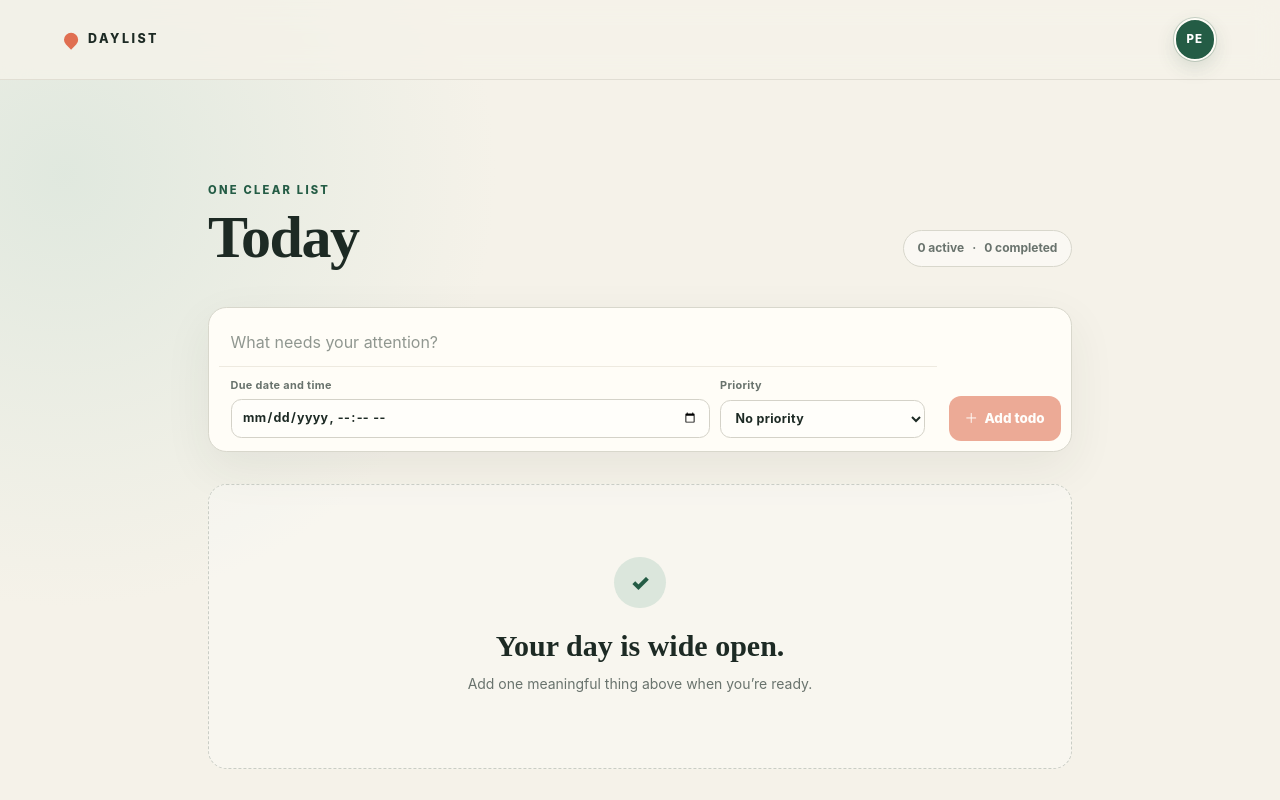
App › adds a todo with a local due date and priority
Type "Ship the app" into the field named "New todo" at coordinates (578, 342), box [219,319,937,366]
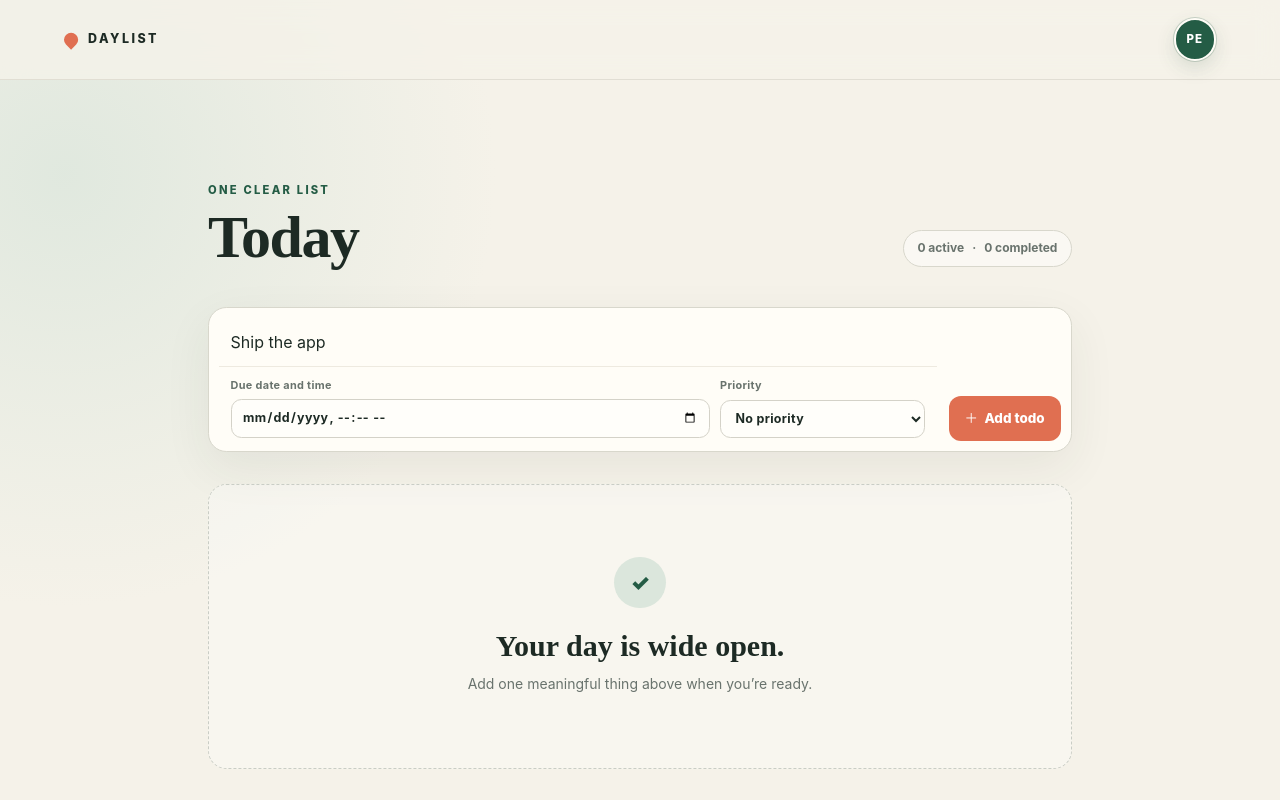
Type "2026-09-03T14:30" into the field labelled "Due date and time" at coordinates (470, 419), box [231,399,710,438]
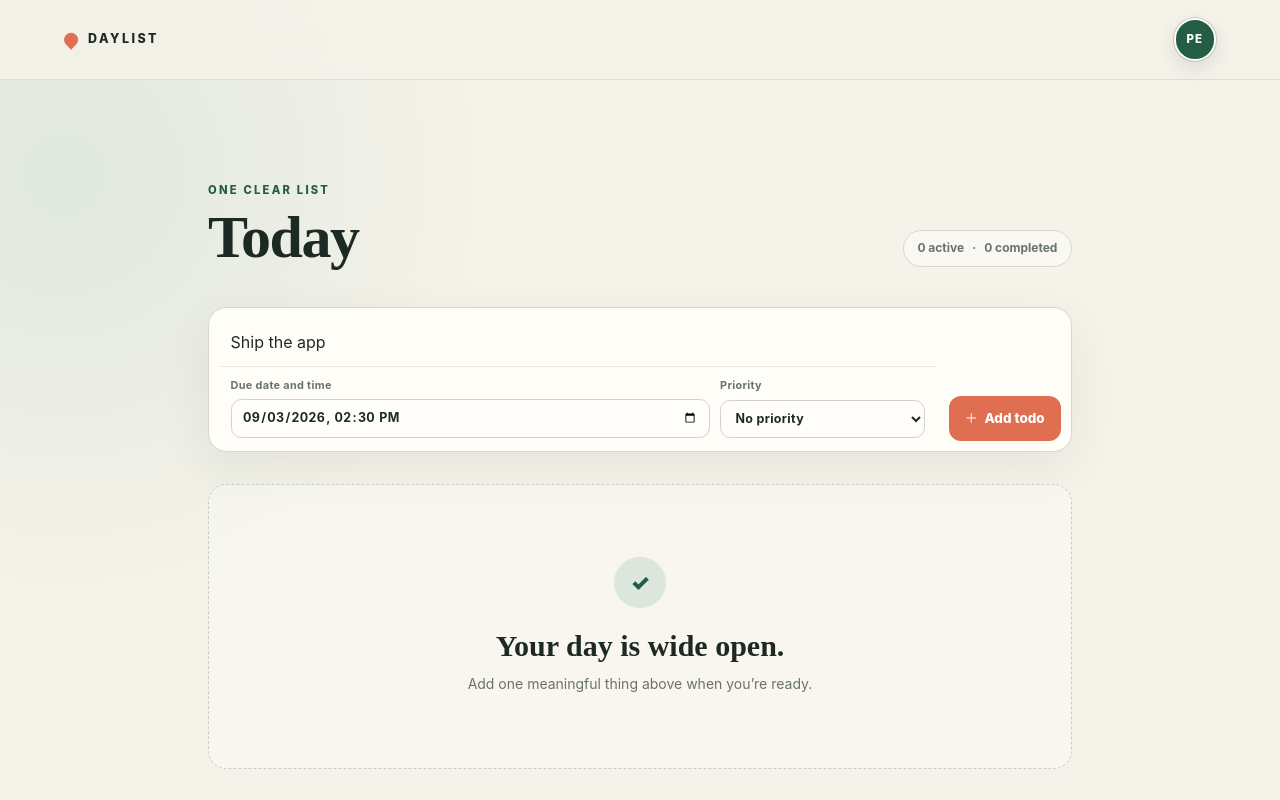
Select "High" in the dropdown labelled "Priority" at coordinates (823, 419), box [720,400,925,438]
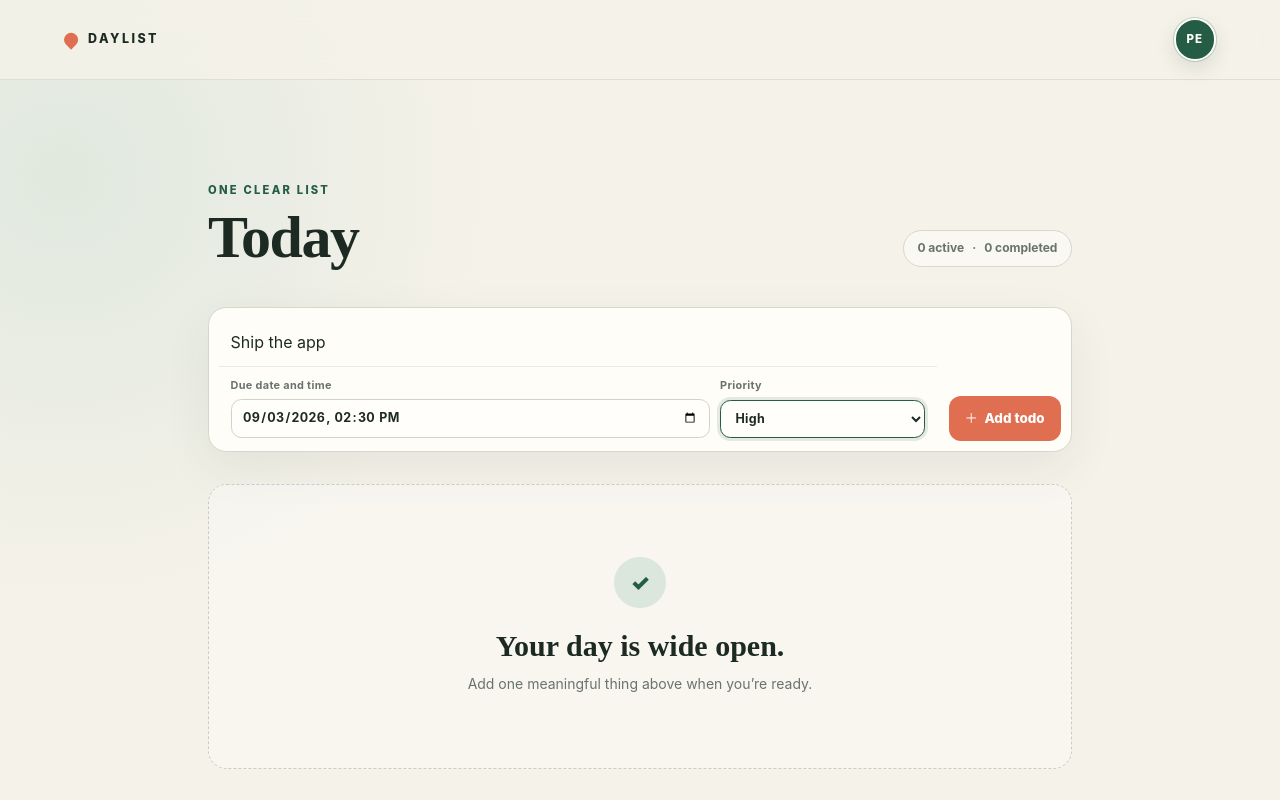
Click the button "＋ Add todo" at coordinates (1005, 418), box [949,396,1061,441]
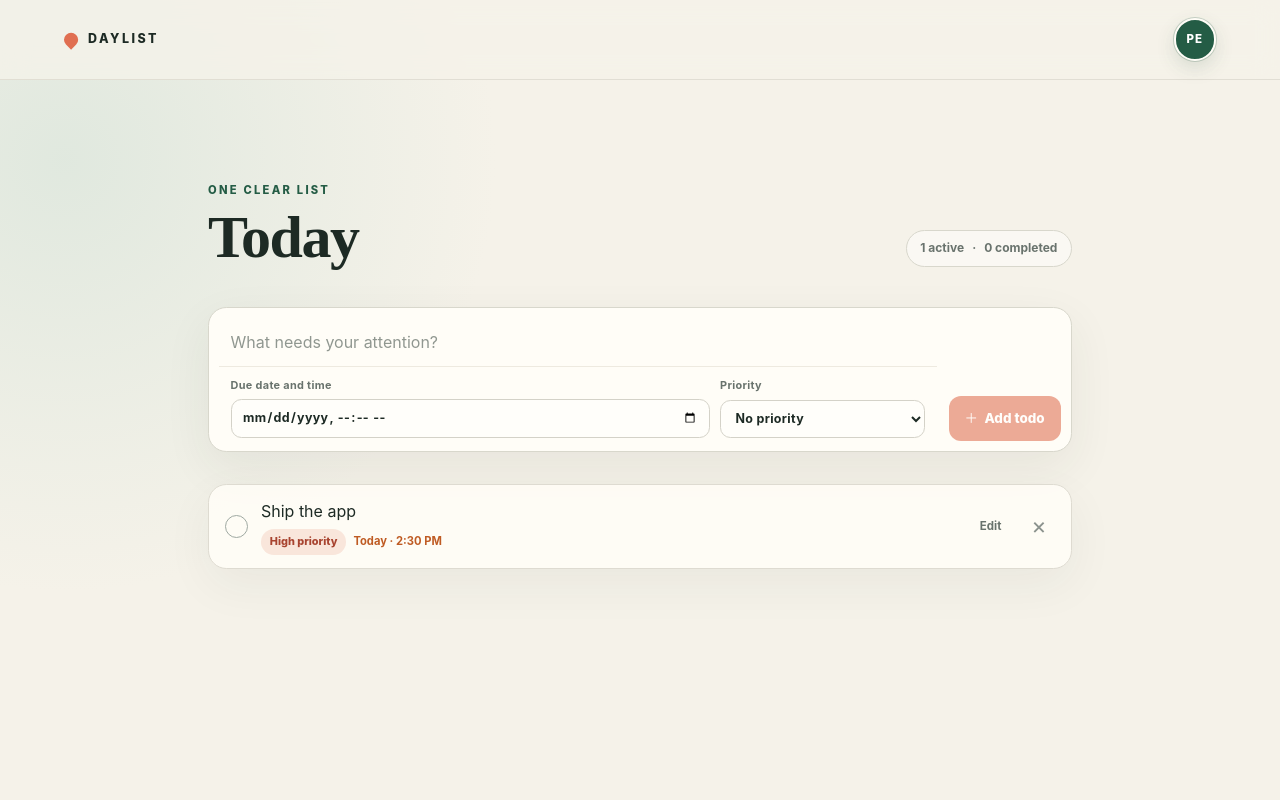
Result: the text "High priority" is shown at [261,529,346,554]
Result: the field named "New todo" is empty at [219,319,937,366]
Result: the field labelled "Due date and time" is empty at [231,399,710,438]
